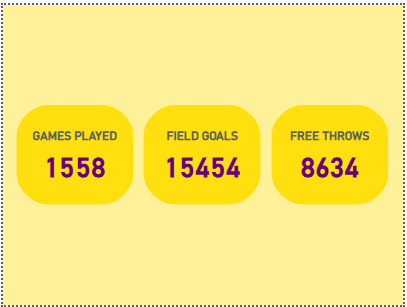

Layout of this report page (visuals, bound fields, positions):
{"tool":"powerbi","page":{"name":"Tooltip","canvas":[320,240],"ordinal":2},"visuals":[{"type":"cardVisual","fields":{"Data":["Lebron.GP","Lebron.FGM","Lebron.FTM"]},"box":[5,75,310,90],"z":0}]}

Visuals, with their boxes in screenshot pixels (x1, y1, x2, y2), scaled from the page's 320x240 canvas onto the 407x307 screenshot:
cardVisual - Lebron.GP x Lebron.FGM: [x1=6, y1=96, x2=401, y2=211]
